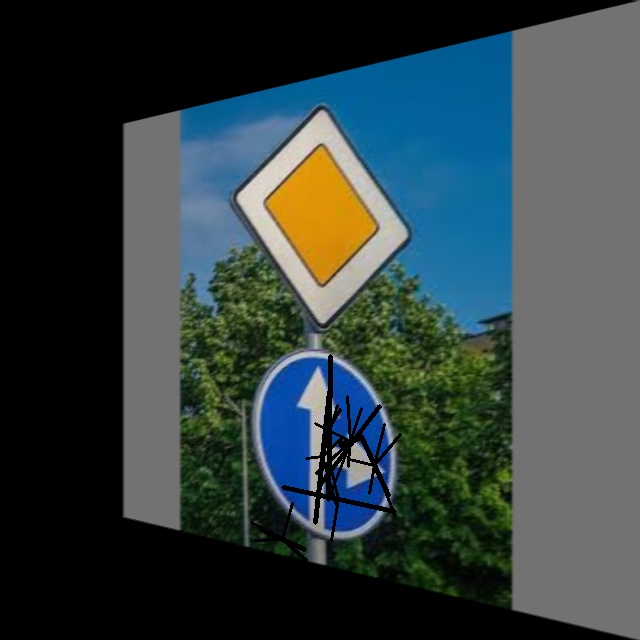Compulsory_Ahead_or_Turn_Right: (254, 345, 396, 550)
